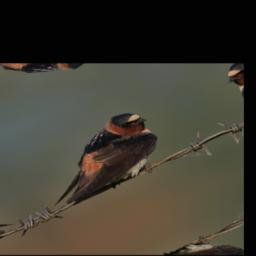Swallow: (16, 105, 179, 214)
